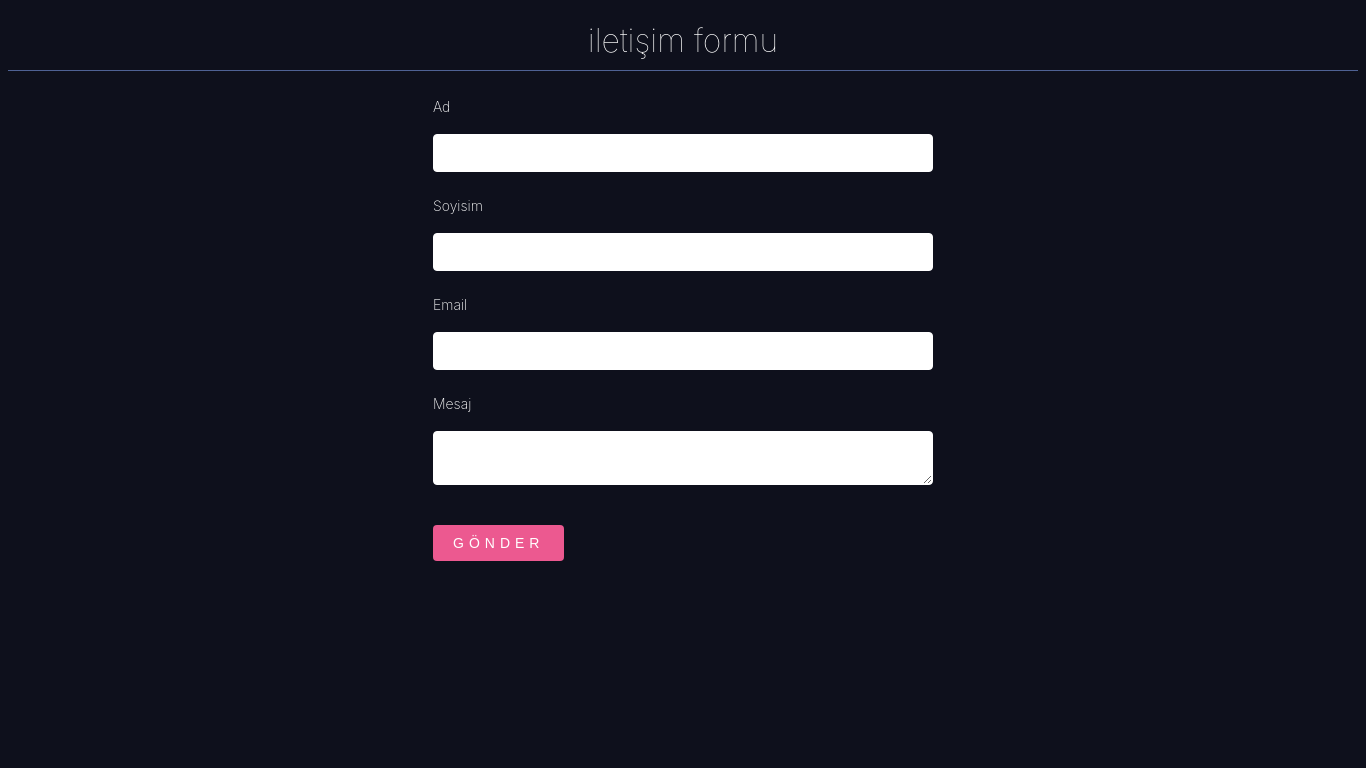
Test: [5] kullanıcı doğru ad ve soyad girdiğinde ama email girmediğinde BİR hata mesajı render ediliyor.
Type "Caner" into the field with test id "name" at (683, 153), box left=433, top=134, right=933, bottom=172
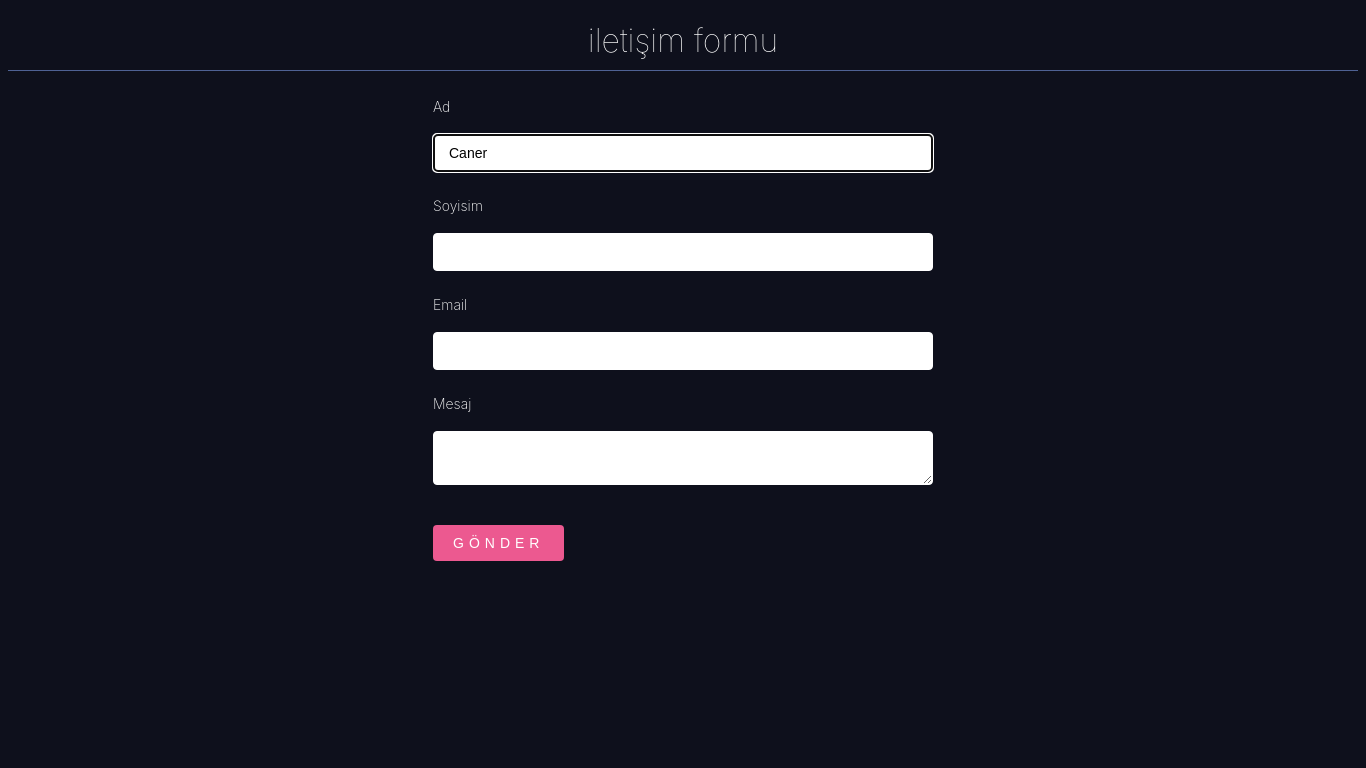
Type "Yılmaz" into the field with test id "surname" at (683, 252), box left=433, top=233, right=933, bottom=271
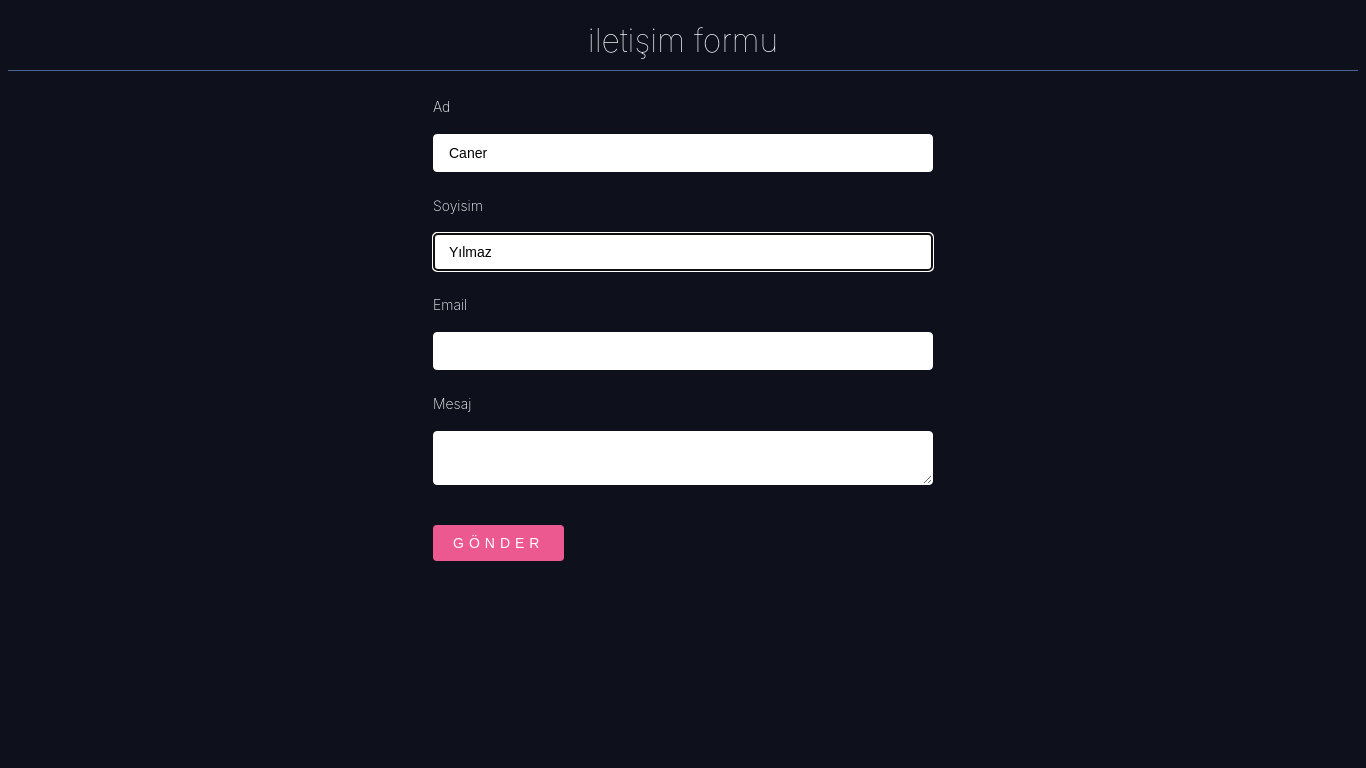
Click the button at (499, 543), box left=433, top=525, right=564, bottom=561
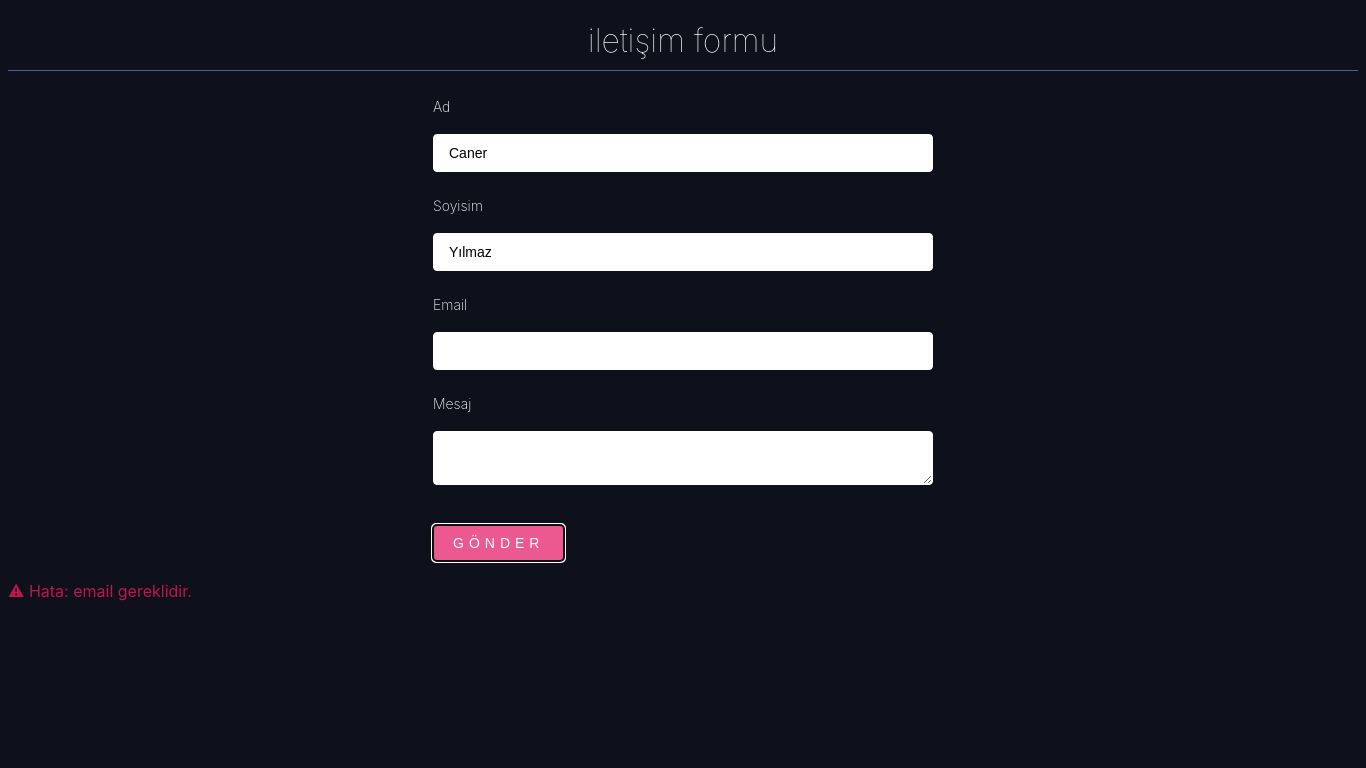
Expected: the number of elements with test id "error" is 1, left=29, top=581, right=192, bottom=601
